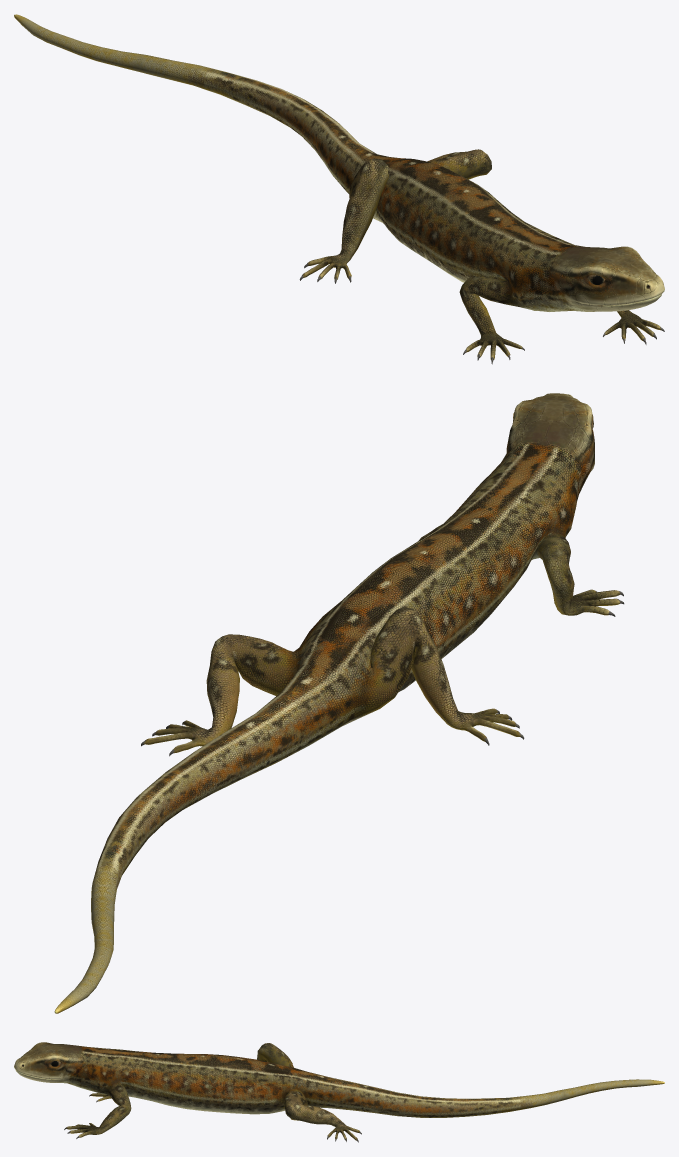
Rendered from Standing160.obj.
3 renders of one model, top to bottom at view 1: azimuth 30°, elevation 25°; view 2: azimuth 150°, elevation 25°; view 3: azimuth 270°, elevation 25°, orthographic. The views are drawn at different scales.
Parts seen in each view (by area): view 1: Lizard; view 2: Lizard; view 3: Lizard.
Boxes of the visible parts, x1,y1,x2,y2 form: Lizard: [14, 14, 664, 364]; Lizard: [54, 393, 624, 1013]; Lizard: [14, 1042, 664, 1142].
Bounding box in the file's own units: 25.34 × 12.09 × 102.
